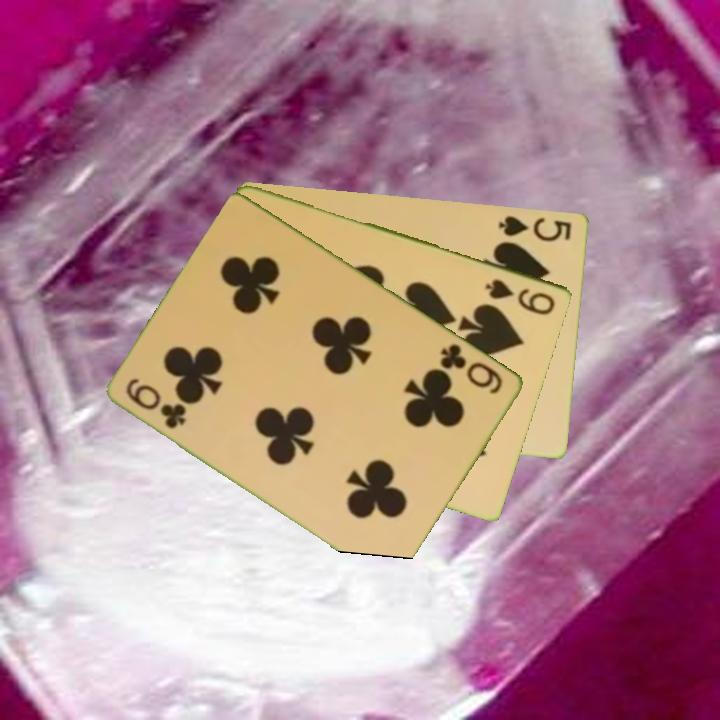5s: (495, 212, 575, 244)
6c: (437, 339, 507, 397), (123, 374, 190, 432)
9s: (482, 275, 559, 318)
